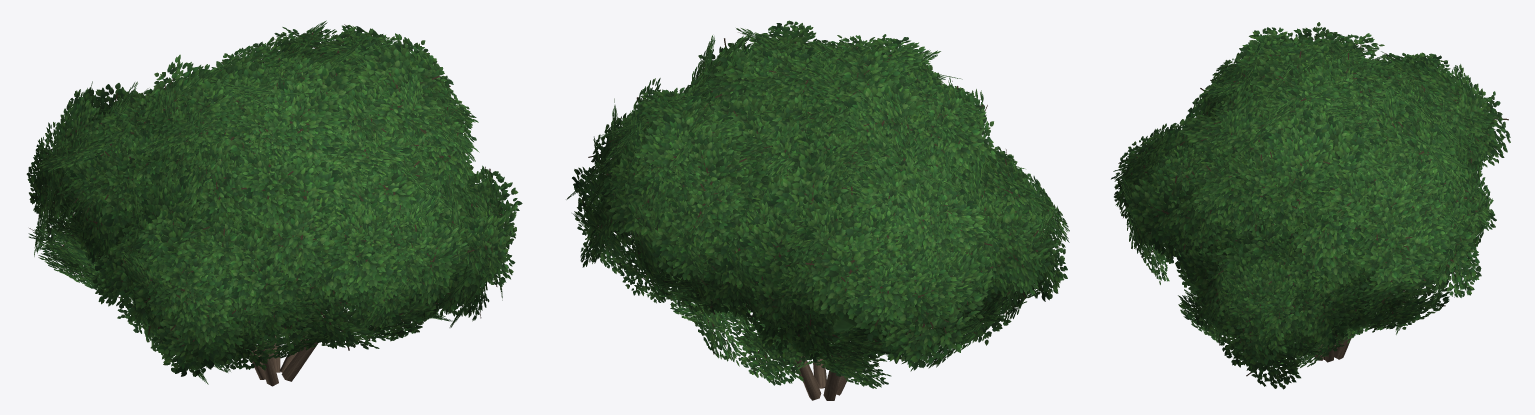
The model's file is Bush_Round_A.fbx.
3 views of the same model, side by side, from view 1: azimuth 30°, elevation 25°; view 2: azimuth 150°, elevation 25°; view 3: azimuth 270°, elevation 25° (orthographic). The views are drawn at different scales.
Parts seen in each view (by area): view 1: Bush_Round_A; view 2: Bush_Round_A; view 3: Bush_Round_A.
Part boxes in pixels (x1=…): Bush_Round_A: x1=26, y1=20, x2=522, y2=386; Bush_Round_A: x1=566, y1=20, x2=1069, y2=400; Bush_Round_A: x1=1111, y1=22, x2=1510, y2=389.
Size of the model in its own units: 2.43 by 1.88 by 2.27.
2 materials, 2 textured.
